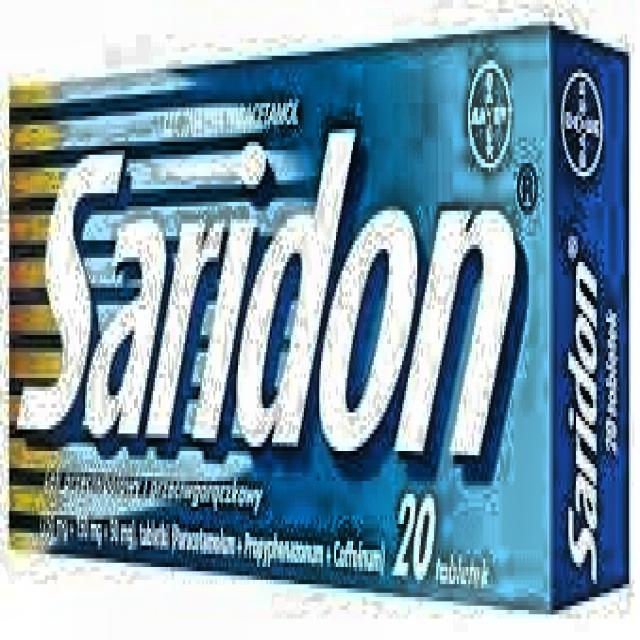Saridon: (20, 128, 527, 546)
